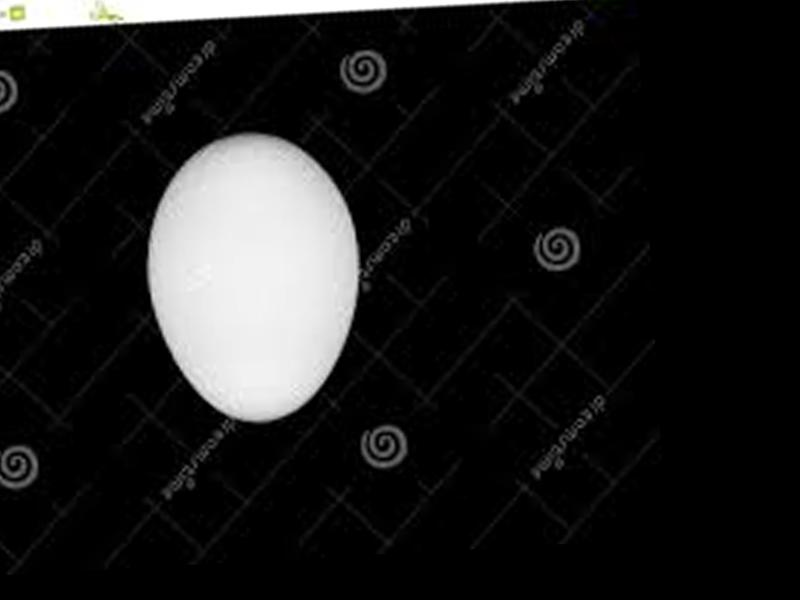Eggs: (135, 128, 365, 426)
